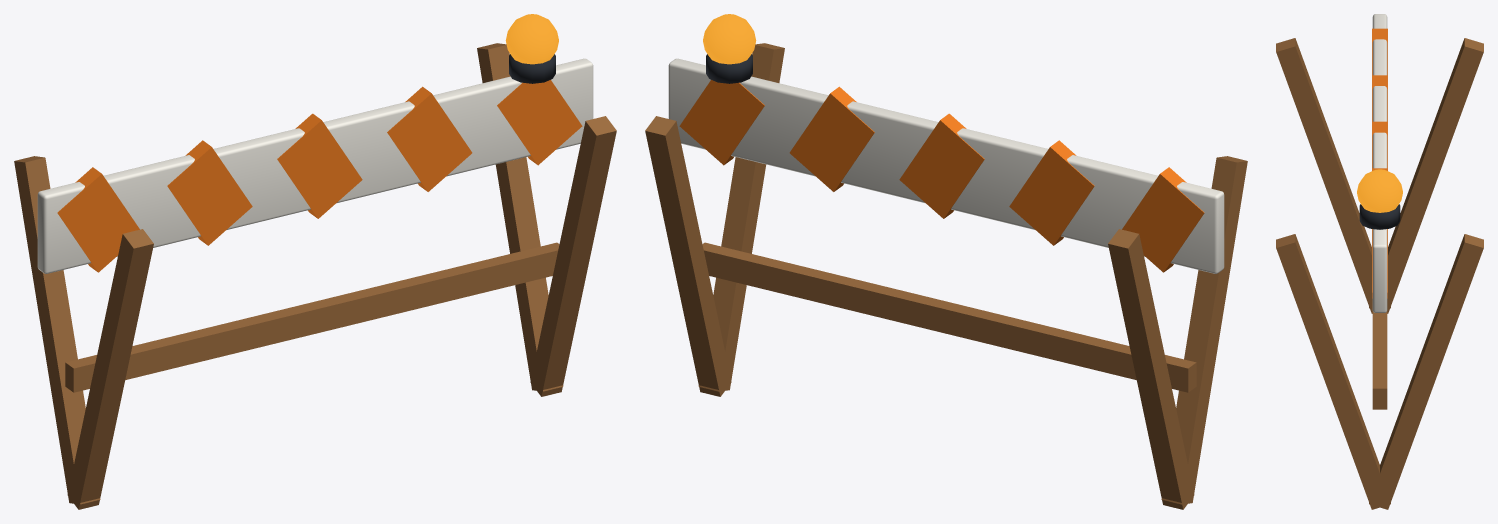
The model's file is sawhorse.glb.
3 renders of one model, left to right at view 1: azimuth 30°, elevation 25°; view 2: azimuth 150°, elevation 25°; view 3: azimuth 270°, elevation 25°, orthographic. The views are drawn at different scales.
Visible parts, largest first — view 1: board, rail_lo, leg-0.81, leg0.81, leg-0.8-1, leg0.8-1, stripe2, stripe1, stripe3, stripe0, stripe4, lamp (+1 smaller); view 2: board, rail_lo, leg-0.8-1, leg0.8-1, leg-0.81, leg0.81, stripe2, stripe1, stripe3, stripe0, stripe4, lamp (+1 smaller); view 3: leg0.8-1, leg0.81, leg-0.8-1, leg-0.81, board, lamp, rail_lo, lamp_base, stripe0, stripe2, stripe1.
Boxes of the visible parts, x1,y1,x2,y2 form: board: (37,58,593,273); rail_lo: (65,242,559,392); leg-0.81: (67,229,153,509); leg0.81: (530,116,616,396); leg-0.8-1: (14,156,100,504); leg0.8-1: (477,43,563,391); stripe2: (277,113,362,218); stripe1: (167,140,252,245); stripe3: (387,86,472,191); stripe0: (57,167,139,272); stripe4: (497,80,582,165); lamp: (505,14,558,64); board: (668,58,1224,273); rail_lo: (702,242,1196,392); leg-0.8-1: (1108,229,1194,509); leg0.8-1: (645,116,731,396); leg-0.81: (1161,156,1247,504); leg0.81: (698,43,784,391); stripe2: (899,113,984,218); stripe1: (1009,140,1094,245); stripe3: (789,86,874,191); stripe0: (1122,167,1204,272); stripe4: (679,80,764,165); lamp: (703,14,756,64); leg0.8-1: (1369,234,1483,509); leg0.81: (1276,234,1390,509); leg-0.8-1: (1369,38,1483,313); leg-0.81: (1276,38,1390,313); board: (1372,14,1387,312); lamp: (1357,169,1402,212); rail_lo: (1372,311,1387,409); lamp_base: (1359,204,1400,229); stripe0: (1372,28,1387,75); stripe2: (1372,121,1387,168); stripe1: (1372,75,1387,121).
Size of the model in its own units: 1.9 by 1.25 by 0.7167.
